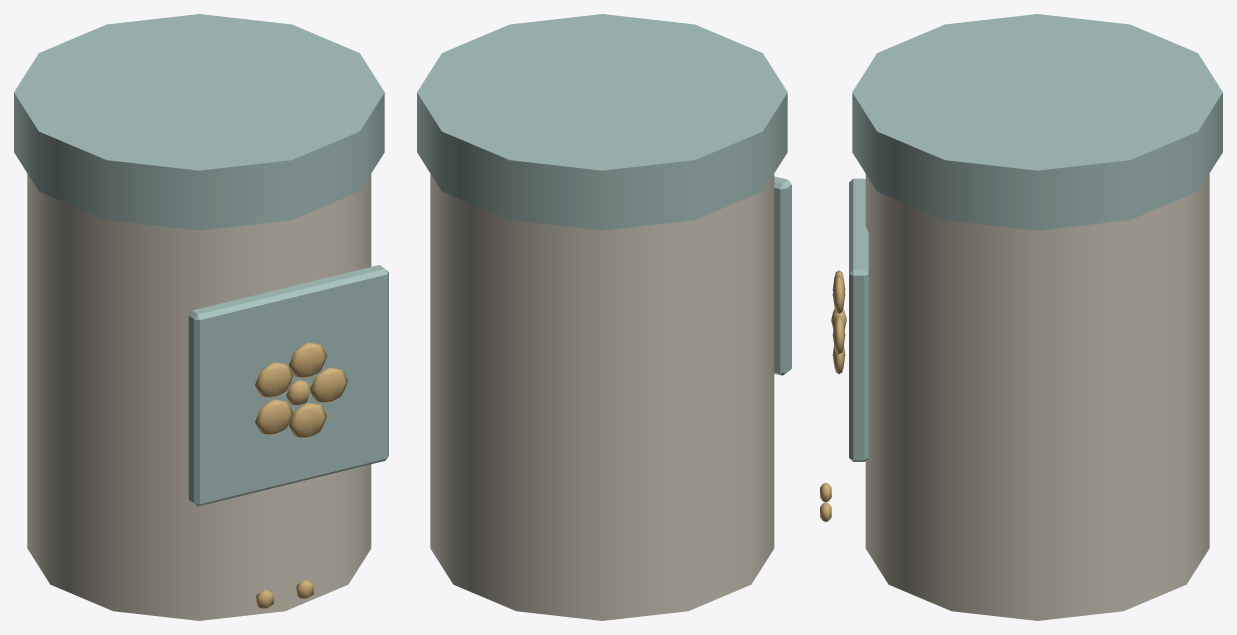
3 views of the same model, side by side, from view 1: azimuth 30°, elevation 25°; view 2: azimuth 150°, elevation 25°; view 3: azimuth 270°, elevation 25° (orthographic).
Visible parts, largest first — view 1: g_s40; view 2: g_s40; view 3: g_s40.
Boxes of the visible parts, x1,y1,x2,y2 form: g_s40: [14, 14, 388, 620]; g_s40: [417, 14, 791, 620]; g_s40: [820, 14, 1222, 620].
Bounding box in the file's own units: 0.28 × 0.38 × 0.3043.
